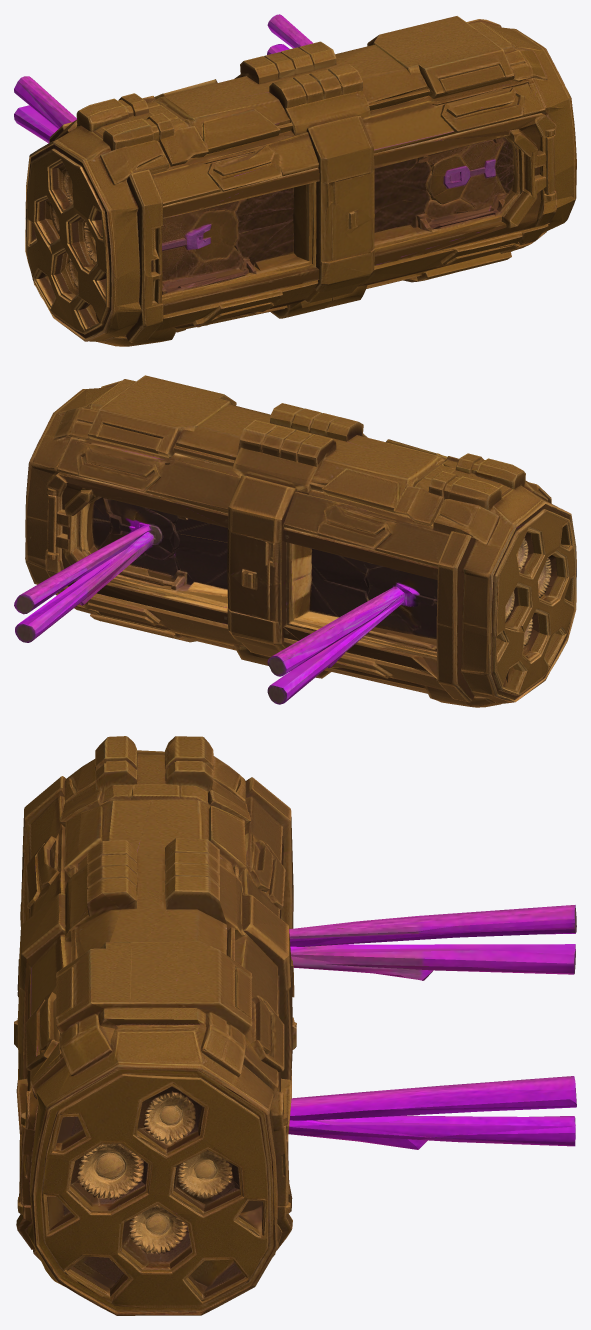
The model's file is tachyon_lance_pierced_shield.glb.
3 renders of one model, top to bottom at view 1: azimuth 30°, elevation 25°; view 2: azimuth 150°, elevation 25°; view 3: azimuth 270°, elevation 25°, orthographic. The views are drawn at different scales.
Size of the model in its own units: 1.9 by 0.8983 by 1.41.
Materials: 1 (1 with a texture image).
